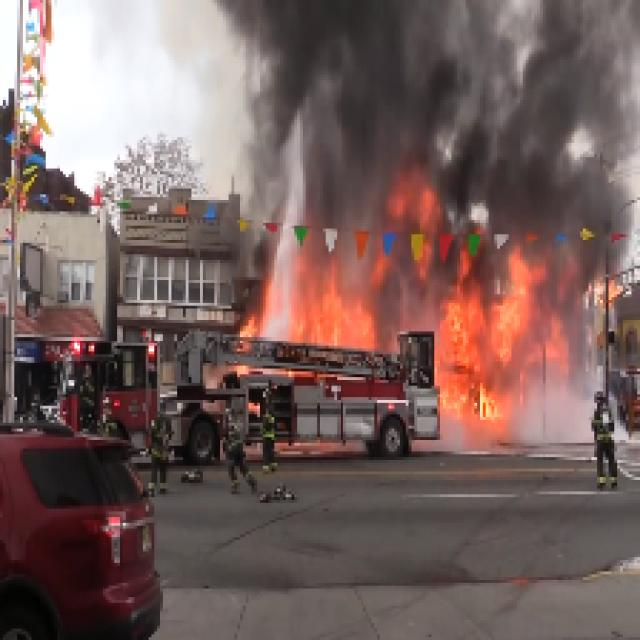fire: (432, 305, 512, 420)
smoke: (282, 2, 627, 228)
